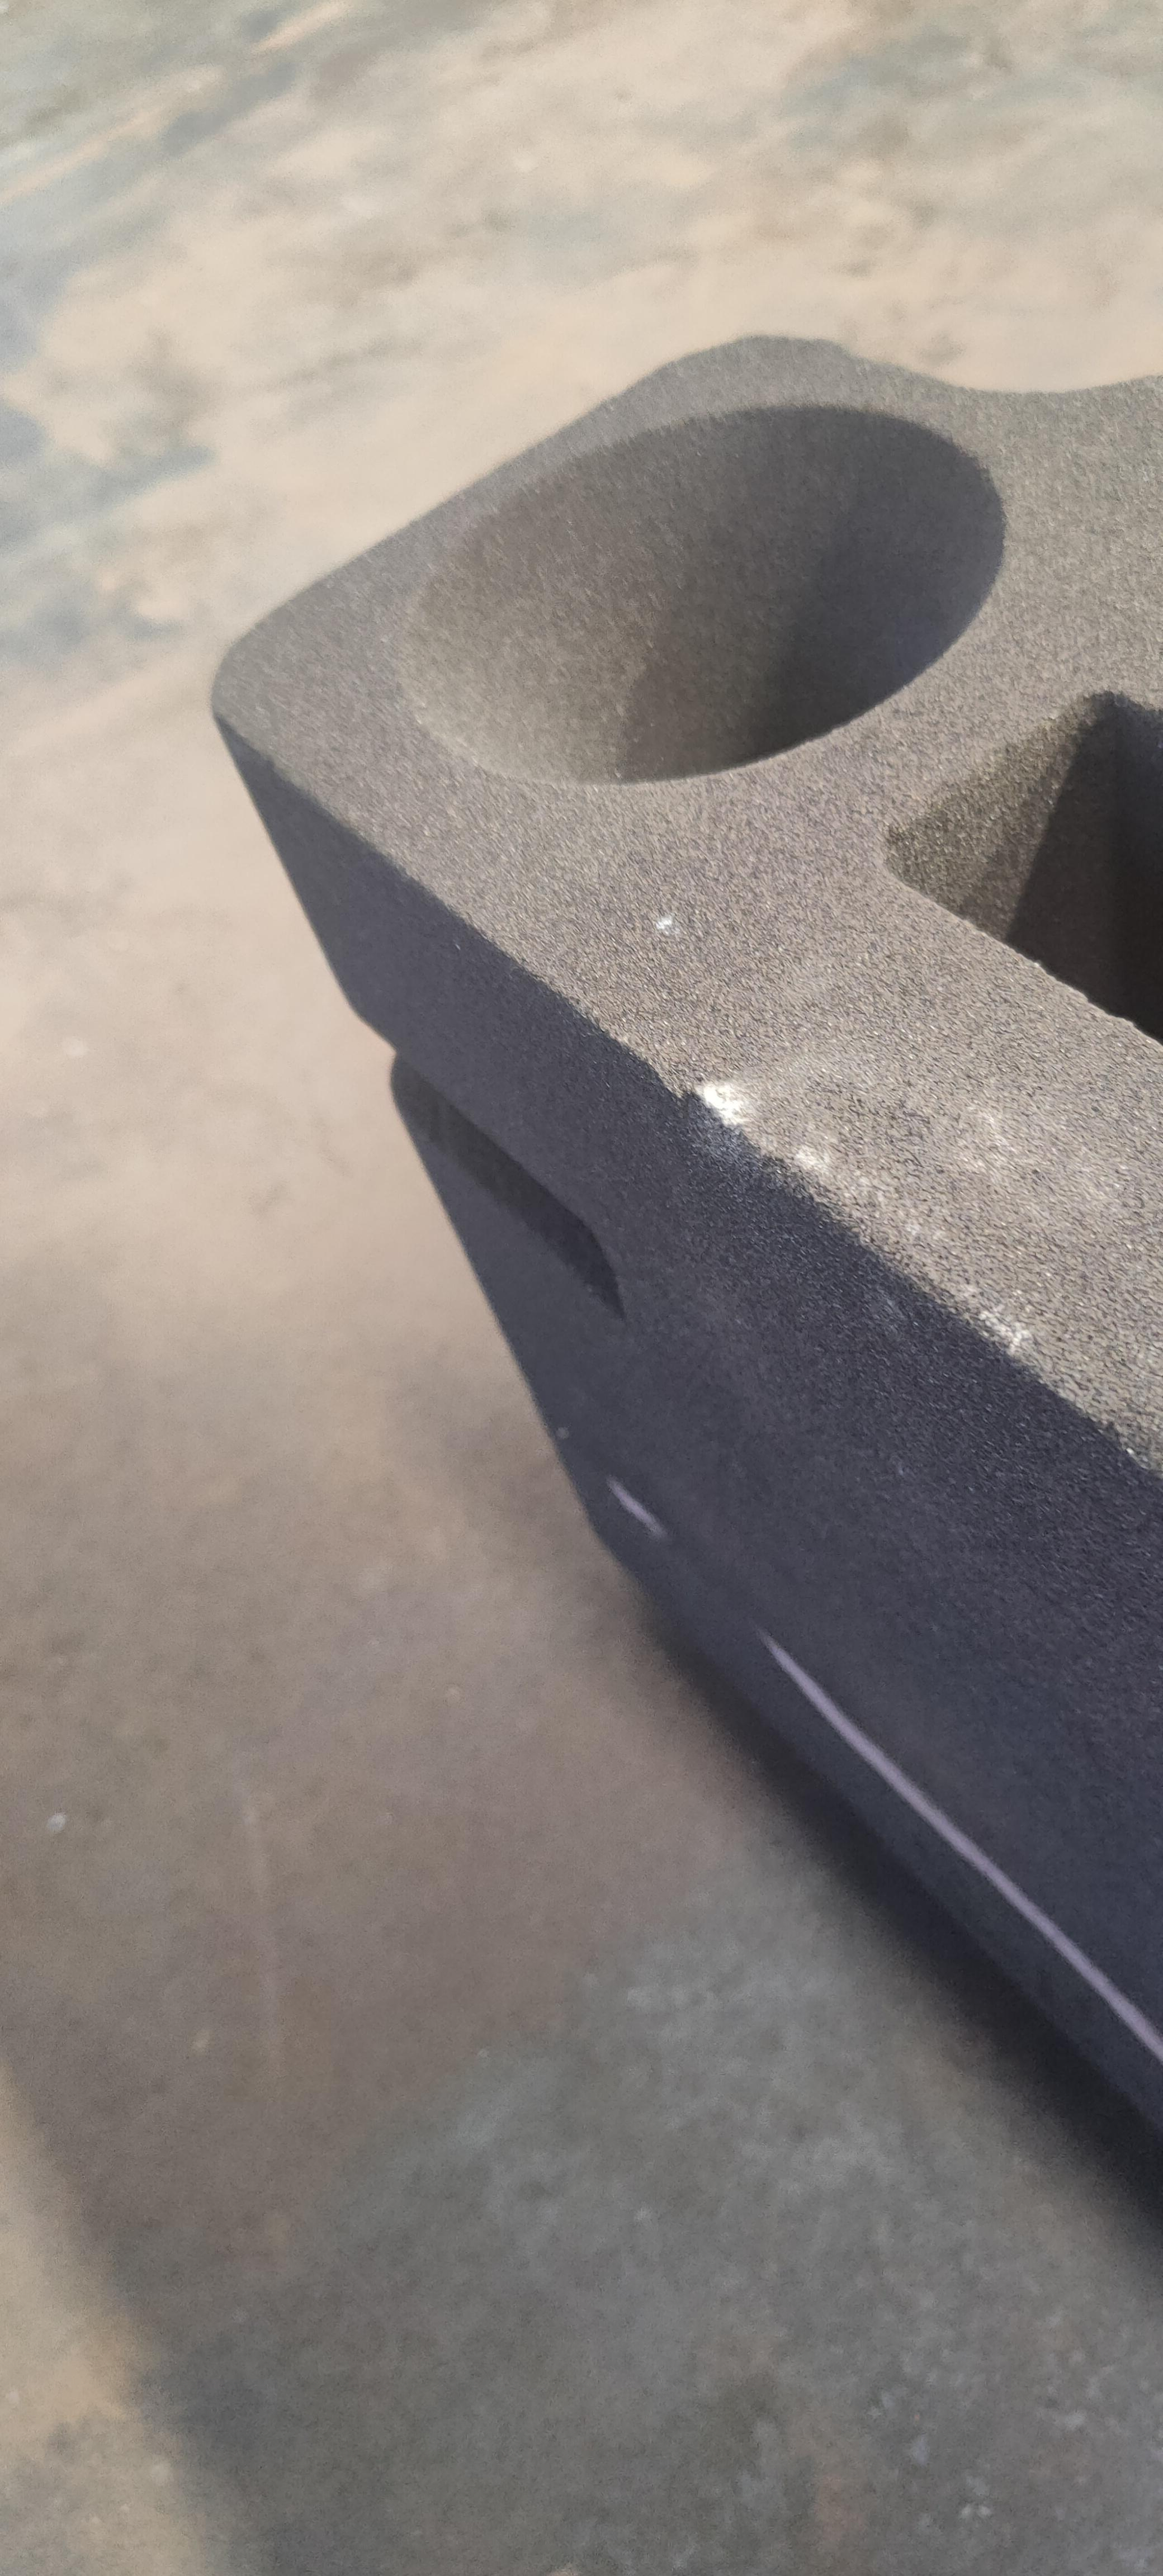pouring hole: (398, 401, 1005, 782)
